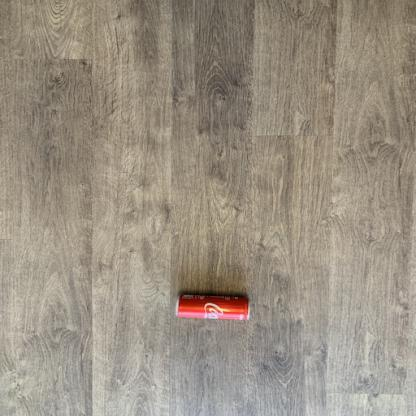trash: (176, 293, 251, 322)
